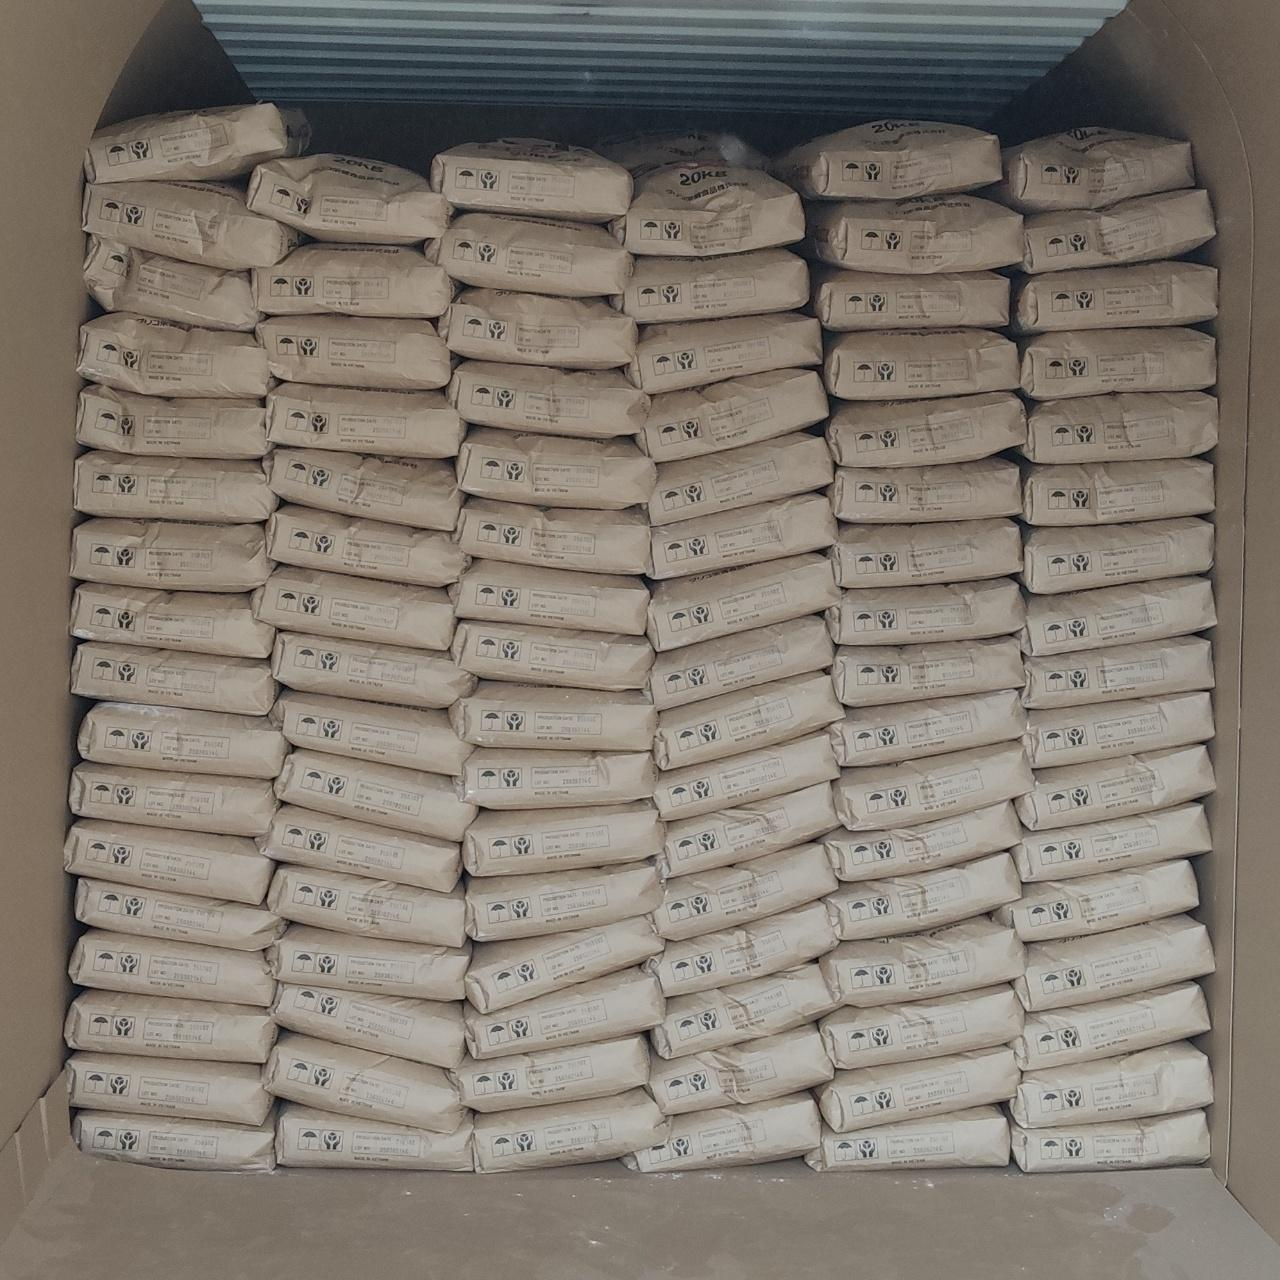sack: (266, 1034, 465, 1132), (602, 159, 804, 257), (83, 182, 301, 270), (1014, 915, 1212, 1012), (647, 553, 840, 651), (465, 917, 660, 1013), (645, 901, 837, 998), (654, 672, 843, 769), (821, 917, 1023, 1007), (247, 154, 451, 243), (653, 843, 838, 940), (275, 749, 477, 838), (84, 102, 309, 182), (640, 433, 833, 525), (465, 968, 663, 1058), (832, 741, 1033, 830), (652, 964, 839, 1058), (257, 805, 462, 892), (268, 689, 474, 776), (771, 122, 1002, 198), (659, 781, 839, 878), (64, 821, 274, 904), (646, 617, 833, 709), (1010, 1042, 1212, 1128), (251, 566, 455, 651), (806, 195, 1022, 274), (77, 312, 275, 399), (427, 213, 632, 297), (821, 1047, 1020, 1132), (635, 372, 826, 461), (824, 853, 1020, 940), (1012, 983, 1207, 1070), (819, 986, 1023, 1068), (83, 236, 259, 331), (1002, 127, 1194, 213), (648, 1024, 832, 1115), (646, 492, 837, 579), (431, 139, 633, 222), (1017, 745, 1213, 830), (1022, 189, 1214, 274), (653, 731, 839, 819), (475, 1089, 669, 1172), (437, 287, 636, 368), (77, 703, 288, 779), (999, 860, 1197, 941), (822, 802, 1022, 881), (267, 506, 467, 586), (622, 1092, 821, 1172), (1012, 803, 1210, 883), (271, 632, 477, 708), (267, 865, 464, 945), (265, 448, 462, 527), (457, 428, 654, 508), (467, 860, 663, 940), (445, 1035, 648, 1112), (273, 983, 463, 1065), (68, 930, 275, 1005), (70, 583, 274, 659), (447, 361, 651, 437), (626, 314, 821, 394), (67, 1051, 272, 1126), (75, 878, 286, 951), (64, 989, 275, 1062), (602, 250, 809, 324), (1022, 577, 1216, 655), (252, 244, 454, 319), (69, 762, 275, 835), (70, 518, 273, 592), (266, 925, 469, 999), (825, 392, 1024, 467), (462, 802, 663, 876), (256, 314, 450, 390), (72, 642, 275, 715), (448, 561, 648, 635), (1010, 263, 1217, 334), (1023, 692, 1213, 769), (830, 690, 1026, 765), (267, 383, 465, 457), (452, 499, 651, 573), (1022, 517, 1213, 593), (74, 451, 275, 522), (450, 682, 658, 750), (1019, 328, 1216, 400), (76, 384, 266, 458), (1021, 392, 1217, 462), (451, 621, 653, 689), (1022, 636, 1213, 708), (825, 328, 1017, 399), (830, 636, 1022, 706), (829, 519, 1022, 587), (275, 1105, 474, 1171), (806, 1107, 1008, 1170), (829, 457, 1022, 523), (828, 579, 1024, 644), (1022, 459, 1213, 525), (811, 267, 1009, 331), (1012, 1110, 1208, 1172), (456, 748, 654, 809), (74, 1110, 272, 1167)
